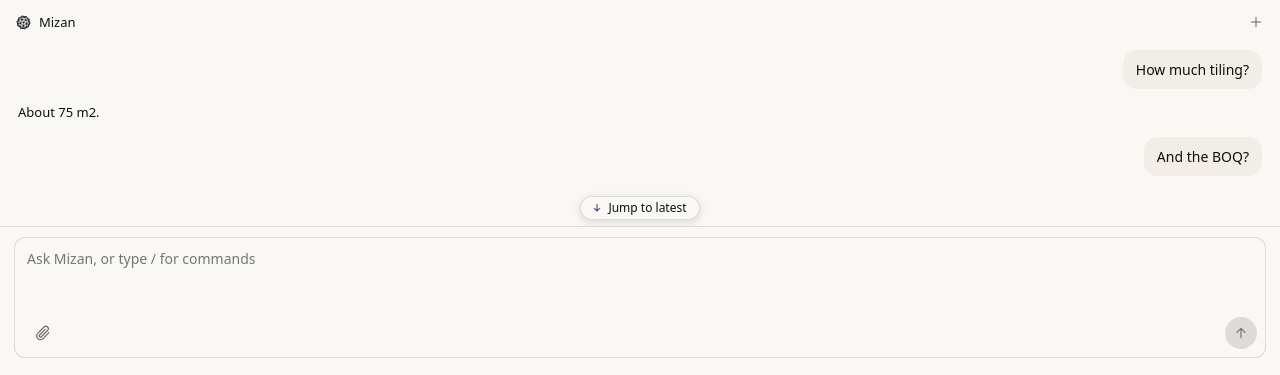
Test: the thread follows the newest message while the reader is at the bottom; scrolled up it leaves them, and a button jumps to the latest
(page scrolled)
Click the button "Jump to latest": point(640, 208) [580,196,700,220]
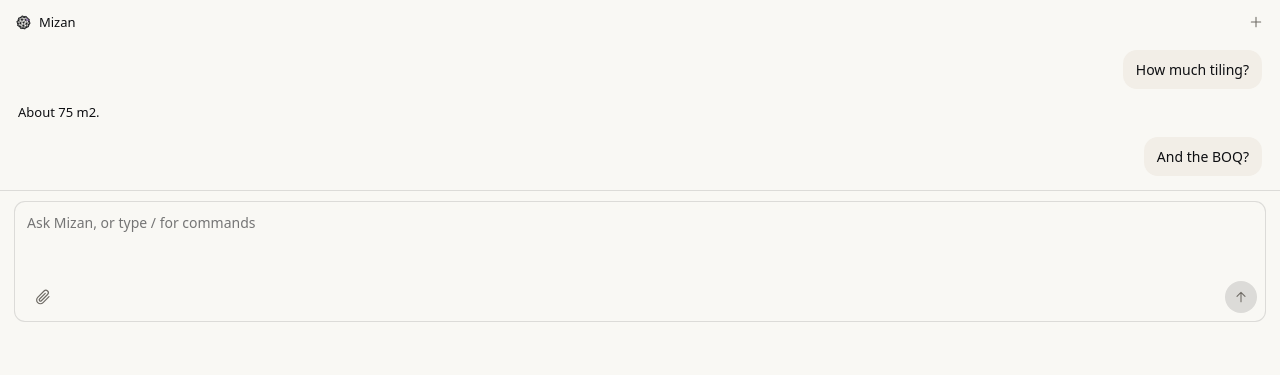
Result: the button "Jump to latest" is gone
